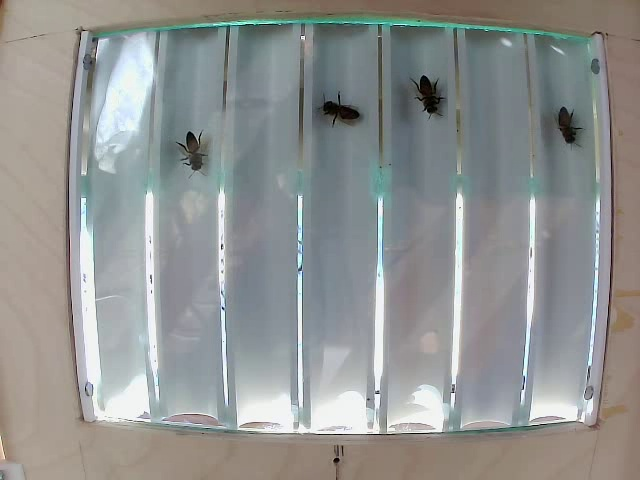bee: (315, 92, 377, 132), (178, 127, 220, 180), (411, 70, 444, 121), (549, 105, 582, 143)
